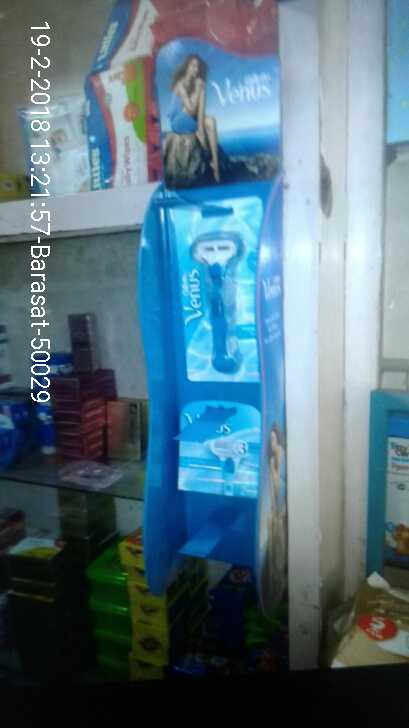venus: (167, 201, 259, 390), (172, 400, 265, 500)
